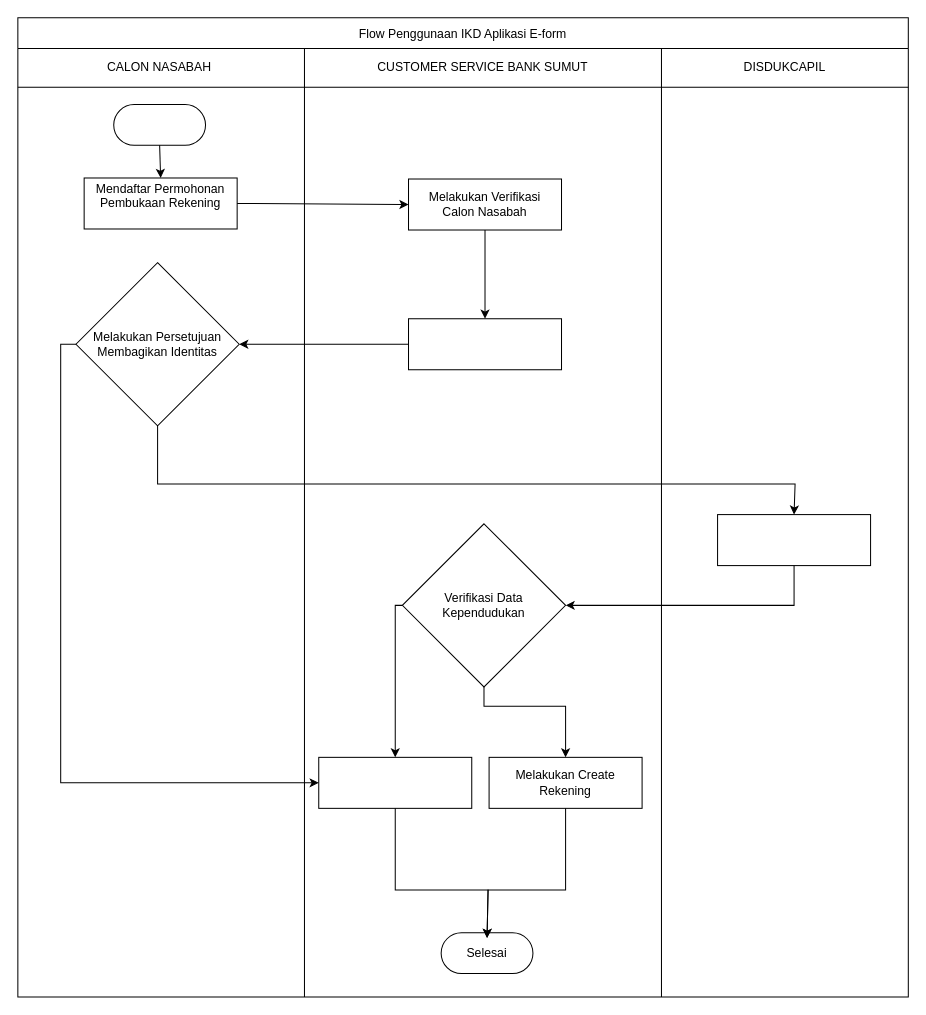
This 926x1015 diagram has some shape labels left out. Here are the shapes that lost their labels. From the top down, the centre of each, then its label:
(159,124): Mulai
(484,344): Scan QR IKD
(794,540): Menampilkan Data Identias Kependudukan
(395,782): Batal Pembukaan Rekening
